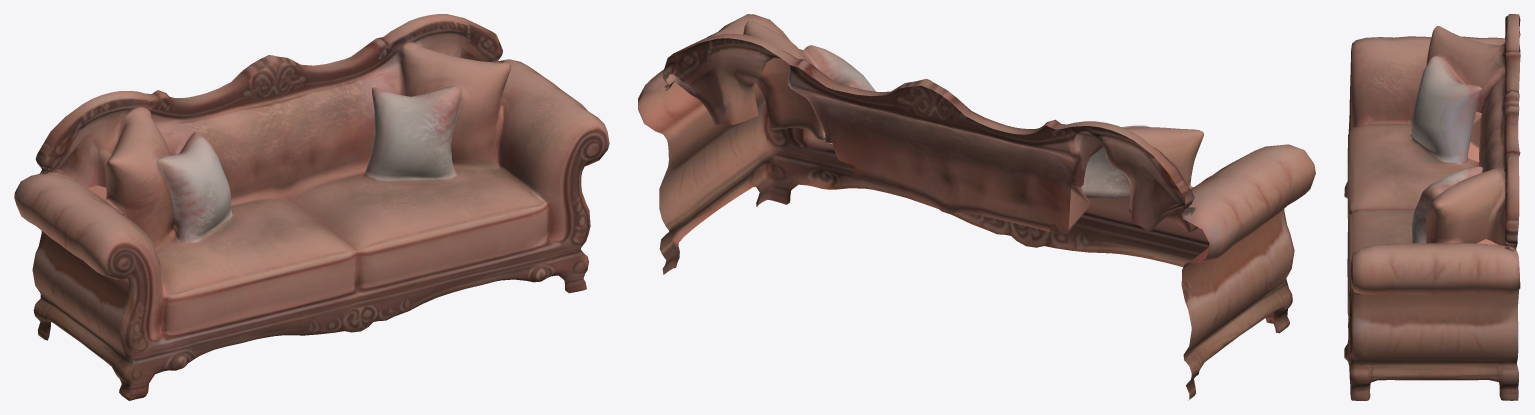
3 renders of one model, left to right at view 1: azimuth 30°, elevation 25°; view 2: azimuth 150°, elevation 25°; view 3: azimuth 270°, elevation 25°, orthographic. The views are drawn at different scales.
Parts seen in each view (by area): view 1: 沙发1; view 2: 沙发1; view 3: 沙发1.
Part boxes in pixels (box(x1,y1,x2,y2)): 沙发1: box(14, 14, 609, 400); 沙发1: box(638, 14, 1315, 400); 沙发1: box(1344, 14, 1520, 400).
Size of the model in its own units: 262 by 110 by 84.97.
